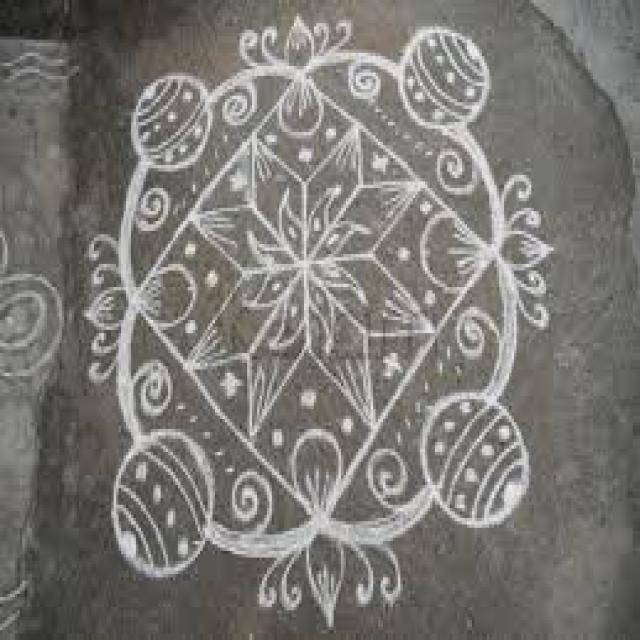rangoli: (73, 0, 560, 640)
